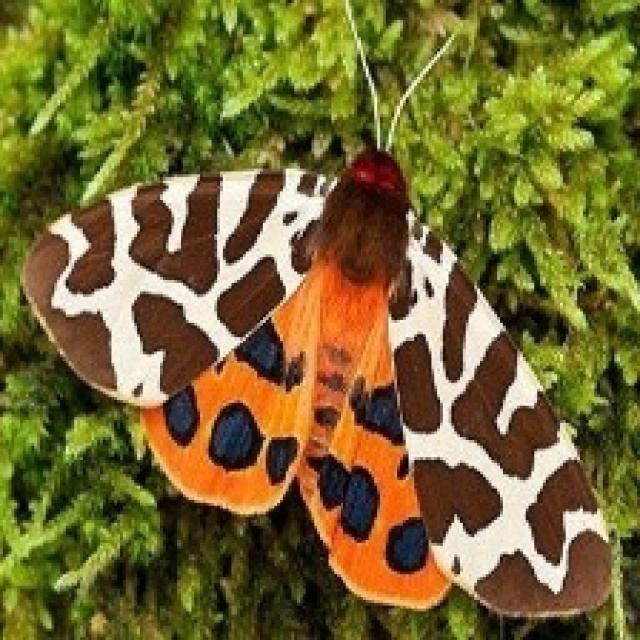butterfly: (17, 143, 614, 617)
